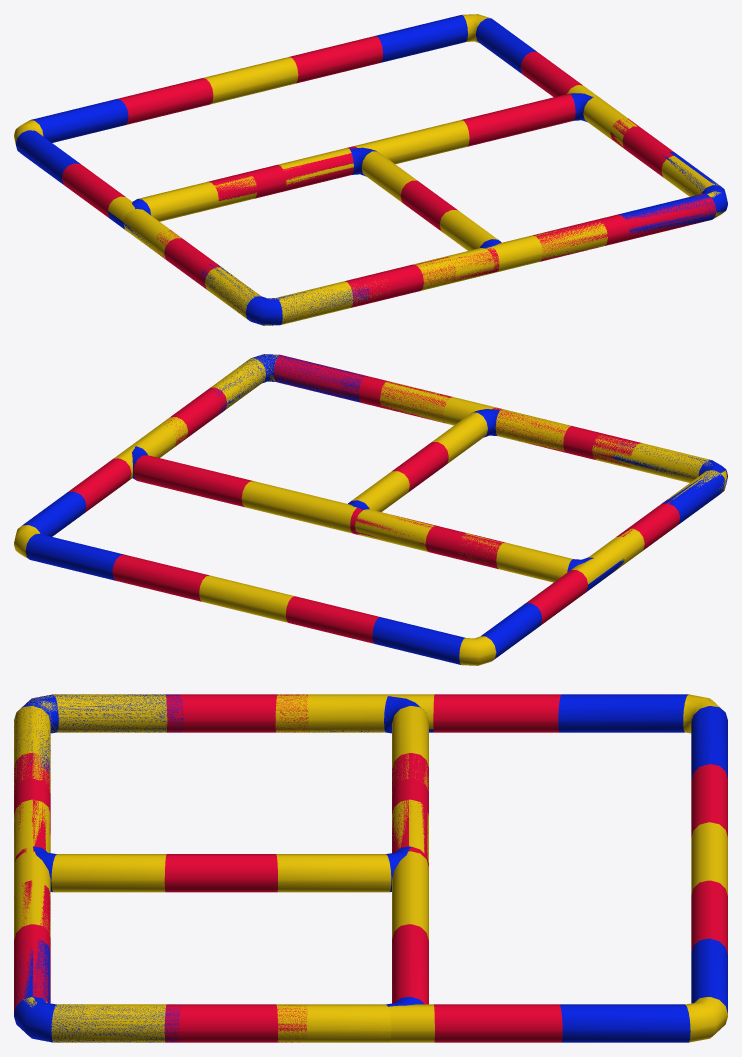
Rendered from tude_123.fbx.
3 renders of one model, top to bottom at view 1: azimuth 30°, elevation 25°; view 2: azimuth 150°, elevation 25°; view 3: azimuth 270°, elevation 25°, orthographic. The views are drawn at different scales.
Parts seen in each view (by area): view 1: Tube3, Tube2, Tube1; view 2: Tube3, Tube2, Tube1; view 3: Tube3, Tube1, Tube2.
Part boxes in pixels (bbox=[...]): Tube3: bbox=[14, 14, 724, 325]; Tube2: bbox=[132, 93, 727, 323]; Tube1: bbox=[123, 147, 501, 325]; Tube3: bbox=[14, 354, 727, 665]; Tube2: bbox=[130, 354, 708, 581]; Tube1: bbox=[348, 409, 727, 582]; Tube3: bbox=[14, 694, 727, 1042]; Tube1: bbox=[14, 694, 428, 892]; Tube2: bbox=[14, 696, 428, 1042].
Size of the model in its own units: 8188 by 399 by 7586.
